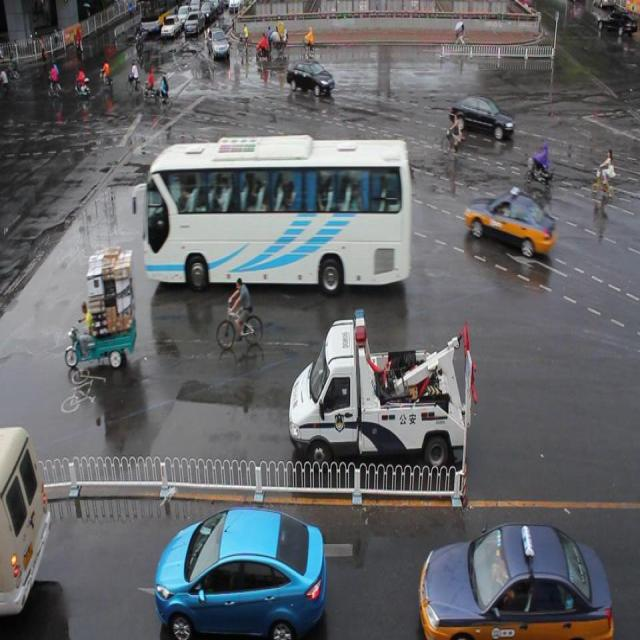bus: (288, 307, 473, 473)
car: (419, 518, 612, 640), (156, 507, 325, 640), (462, 184, 555, 259), (449, 90, 515, 140), (287, 60, 334, 96), (207, 28, 230, 62)
truck: (1, 425, 51, 640)
van: (132, 138, 410, 289)
